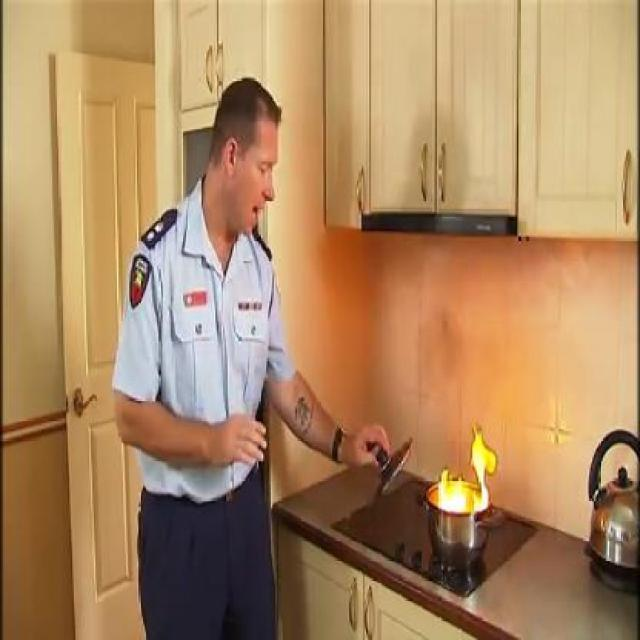fire: (434, 430, 497, 508)
